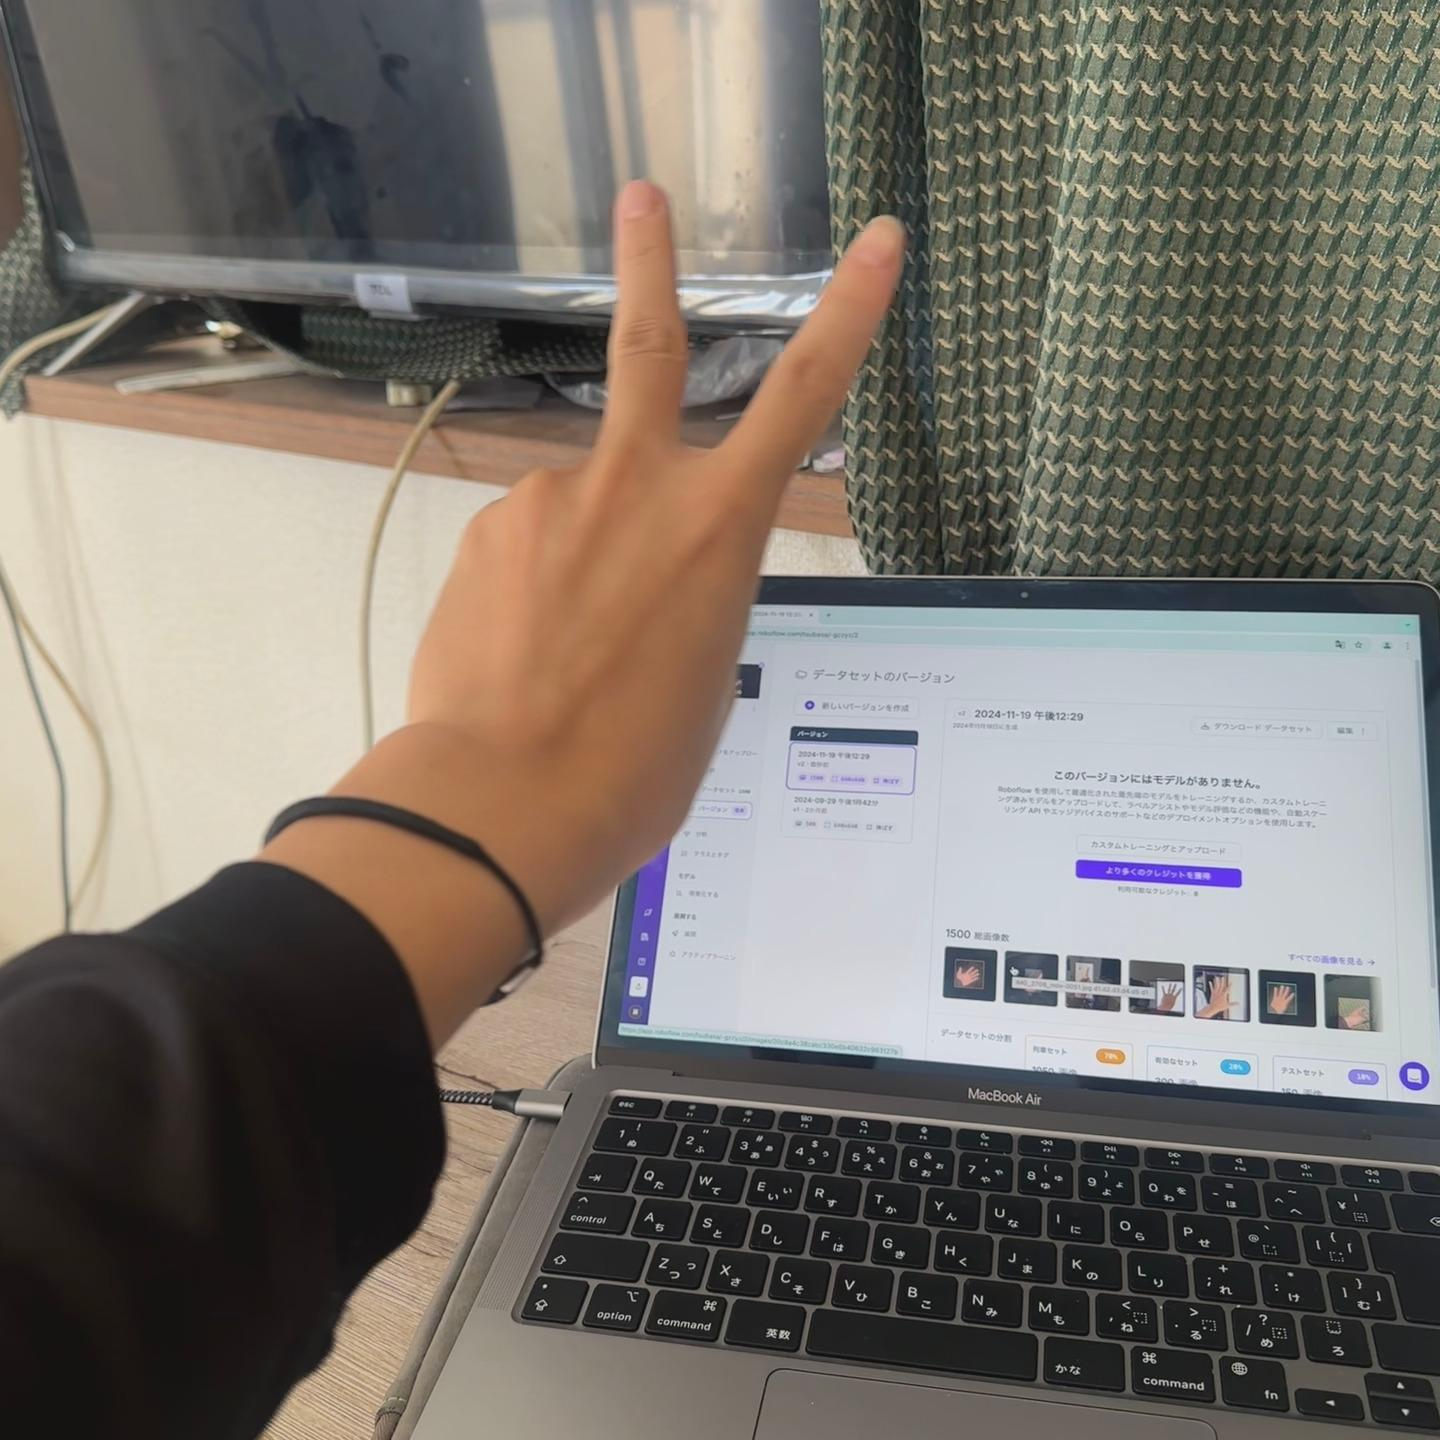without_gloves: (443, 94, 971, 902)
